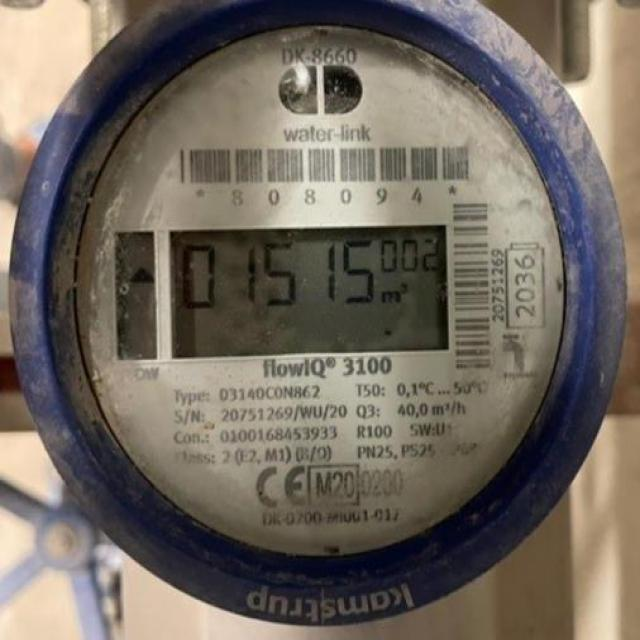gaz_meter: (74, 25, 562, 557)
indication: (169, 227, 449, 360)
